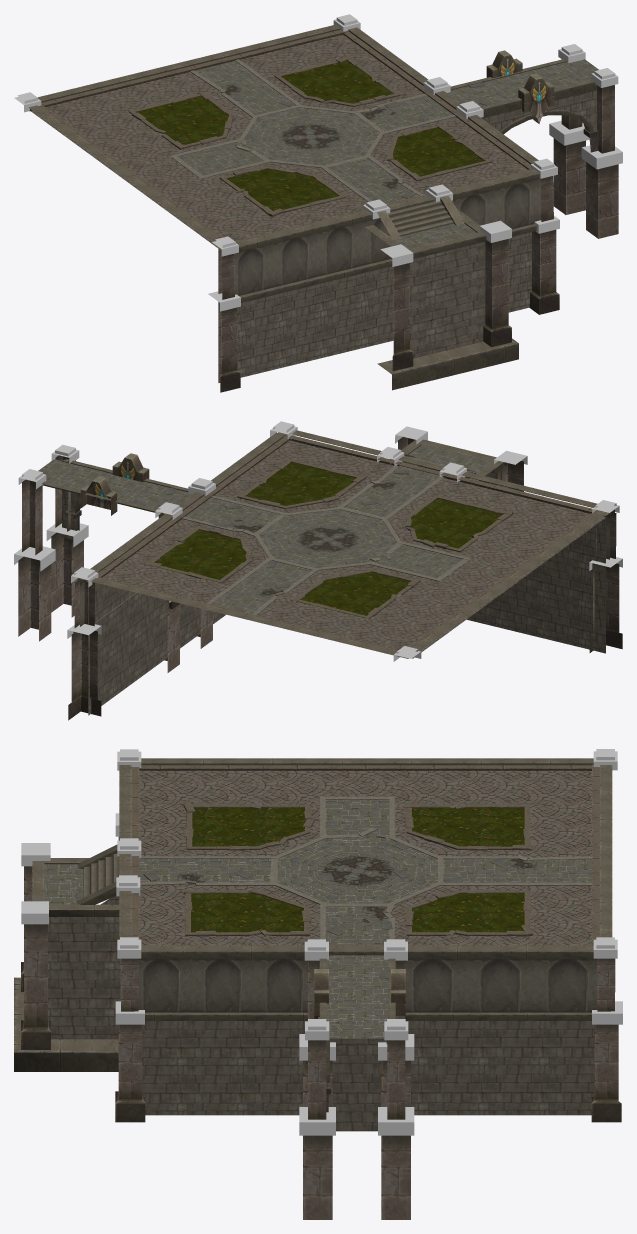
File: section01_guanka05_d.FBX
3 views of the same model, one above another, from view 1: azimuth 30°, elevation 25°; view 2: azimuth 150°, elevation 25°; view 3: azimuth 270°, elevation 25° (orthographic). The views are drawn at different scales.
Visible parts, largest first — view 1: section01_guanka05_d; view 2: section01_guanka05_d; view 3: section01_guanka05_d.
Part boxes in pixels (left/top/right/bottom): section01_guanka05_d: left=14, top=14, right=622, bottom=392; section01_guanka05_d: left=14, top=421, right=622, bottom=720; section01_guanka05_d: left=14, top=749, right=622, bottom=1219.
Bounding box in the file's own units: 69.98 × 63.78 × 23.71.
